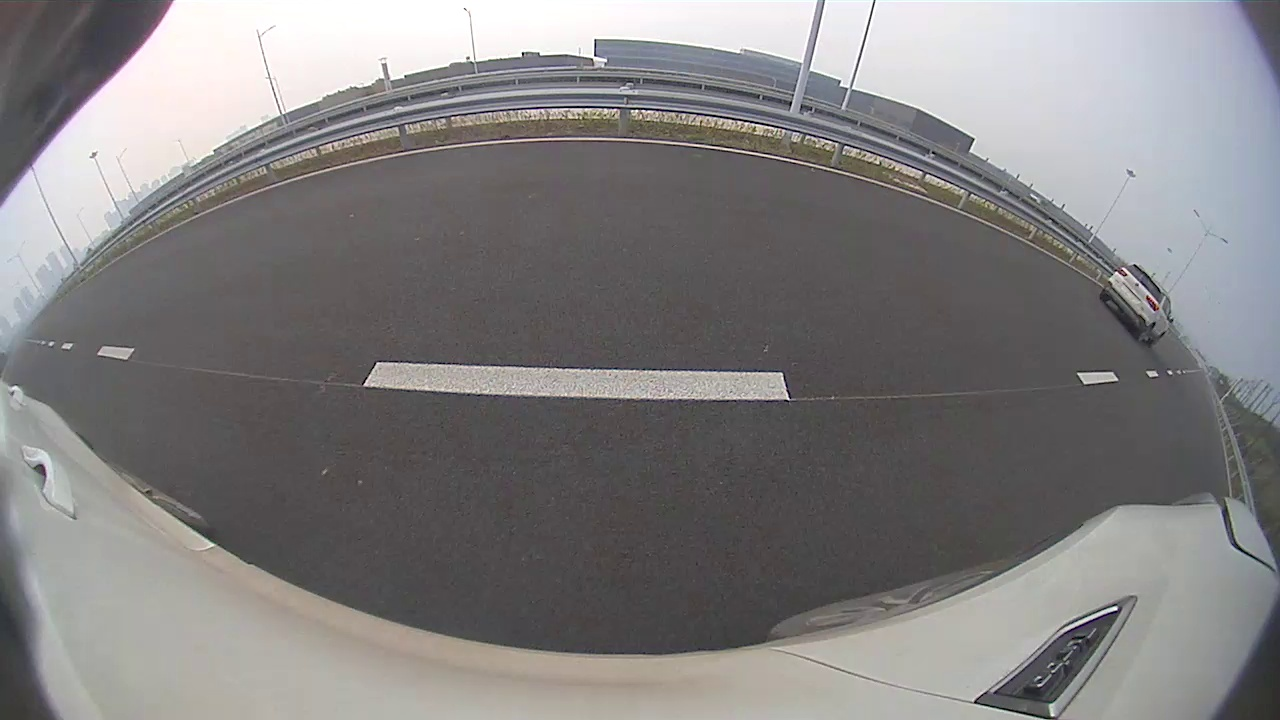car: (1100, 264, 1174, 345)
